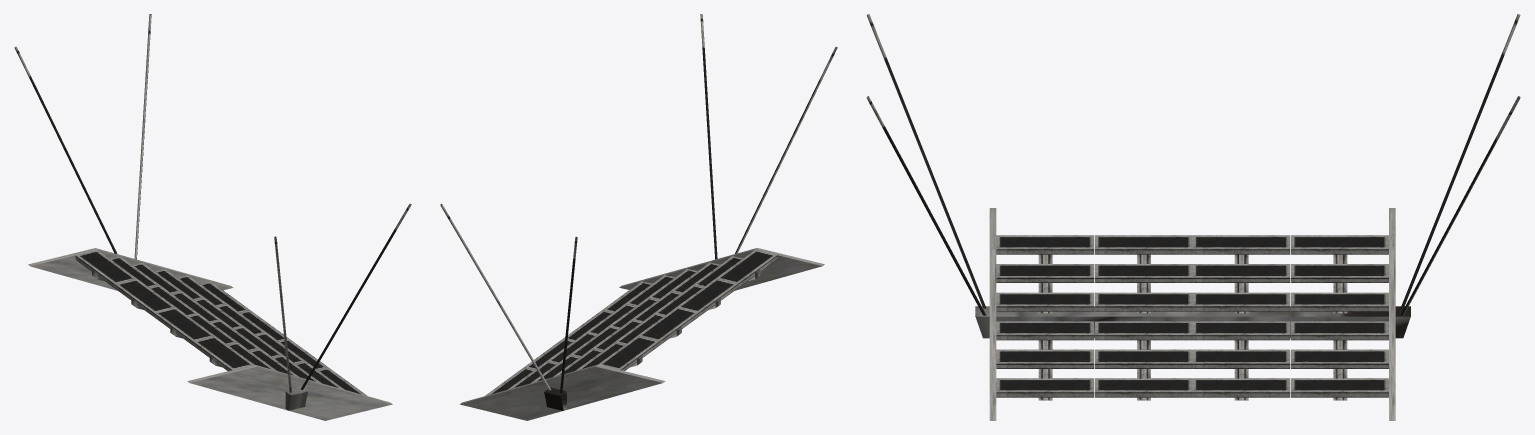
The model's file is SM_stair_IndustrialSection.fbx.
3 renders of one model, left to right at view 1: azimuth 30°, elevation 25°; view 2: azimuth 150°, elevation 25°; view 3: azimuth 270°, elevation 25°, orthographic. The views are drawn at different scales.
Parts seen in each view (by area): view 1: pCylinder6; view 2: pCylinder6; view 3: pCylinder6.
Boxes of the visible parts, bbox=[...] form: pCylinder6: bbox=[14, 14, 411, 420]; pCylinder6: bbox=[440, 14, 837, 420]; pCylinder6: bbox=[866, 14, 1520, 420].
Size of the model in its own units: 3 by 3.44 by 6.67.
